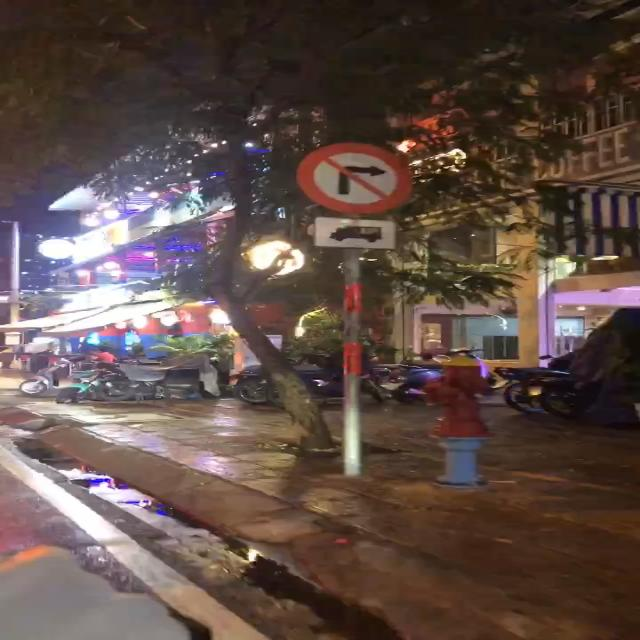Bien bao cam re phai: (285, 129, 424, 214)
